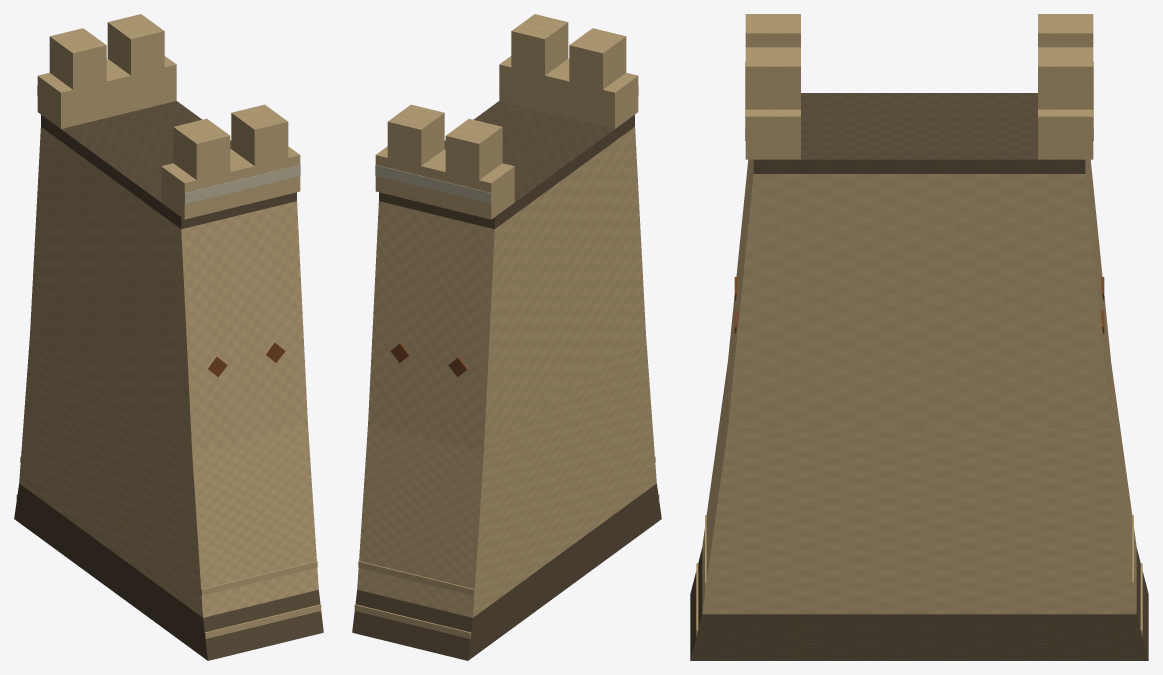
The model's file is Berber_Wall_Age4_gap_2m.fbx.
3 views of the same model, side by side, from view 1: azimuth 30°, elevation 25°; view 2: azimuth 150°, elevation 25°; view 3: azimuth 270°, elevation 25° (orthographic). The views are drawn at different scales.
Parts seen in each view (by area): view 1: gap_2m_rammed_curtain_upper, gap_2m_rammed_curtain_lower, gap_2m_battered_stone_foot, gap_2m_walk_deck, gap_2m_parapet.001, gap_2m_parapet, gap_2m_merlon.002, gap_2m_merlon, gap_2m_merlon.001, gap_2m_merlon.003, gap_2m_owner_painted_band, gap_2m_lime_bond_course (+3 smaller); view 2: gap_2m_rammed_curtain_upper, gap_2m_rammed_curtain_lower, gap_2m_battered_stone_foot, gap_2m_walk_deck, gap_2m_parapet, gap_2m_parapet.001, gap_2m_merlon, gap_2m_merlon.001, gap_2m_merlon.003, gap_2m_merlon.002, gap_2m_owner_painted_band.001, gap_2m_lime_bond_course.001 (+1 smaller); view 3: gap_2m_rammed_curtain_upper, gap_2m_rammed_curtain_lower, gap_2m_battered_stone_foot, gap_2m_walk_deck, gap_2m_merlon.003, gap_2m_merlon.001, gap_2m_parapet, gap_2m_parapet.001, gap_2m_merlon.002, gap_2m_merlon.
Part boxes in pixels (x1=…): gap_2m_rammed_curtain_upper: x1=30, y1=127, x2=307, y2=452; gap_2m_rammed_curtain_lower: x1=19, y1=334, x2=318, y2=617; gap_2m_battered_stone_foot: x1=14, y1=483, x2=323, y2=660; gap_2m_walk_deck: x1=41, y1=101, x2=296, y2=229; gap_2m_parapet.001: x1=37, y1=56, x2=176, y2=128; gap_2m_parapet: x1=161, y1=146, x2=300, y2=219; gap_2m_merlon.002: x1=49, y1=28, x2=106, y2=89; gap_2m_merlon: x1=173, y1=119, x2=230, y2=180; gap_2m_merlon.001: x1=231, y1=105, x2=288, y2=165; gap_2m_merlon.003: x1=107, y1=14, x2=164, y2=75; gap_2m_owner_painted_band: x1=184, y1=164, x2=300, y2=203; gap_2m_lime_bond_course: x1=204, y1=604, x2=321, y2=638; gap_2m_rammed_curtain_upper: x1=368, y1=127, x2=645, y2=452; gap_2m_rammed_curtain_lower: x1=357, y1=334, x2=656, y2=617; gap_2m_battered_stone_foot: x1=352, y1=483, x2=661, y2=660; gap_2m_walk_deck: x1=379, y1=101, x2=634, y2=229; gap_2m_parapet: x1=499, y1=56, x2=638, y2=128; gap_2m_parapet.001: x1=375, y1=146, x2=514, y2=219; gap_2m_merlon: x1=569, y1=28, x2=626, y2=89; gap_2m_merlon.001: x1=511, y1=14, x2=568, y2=75; gap_2m_merlon.003: x1=387, y1=104, x2=444, y2=165; gap_2m_merlon.002: x1=445, y1=118, x2=502, y2=180; gap_2m_owner_painted_band.001: x1=375, y1=164, x2=491, y2=203; gap_2m_lime_bond_course.001: x1=354, y1=604, x2=471, y2=638; gap_2m_rammed_curtain_upper: x1=728, y1=159, x2=1110, y2=428; gap_2m_rammed_curtain_lower: x1=702, y1=362, x2=1136, y2=614; gap_2m_battered_stone_foot: x1=690, y1=548, x2=1148, y2=660; gap_2m_walk_deck: x1=753, y1=93, x2=1085, y2=173; gap_2m_merlon.003: x1=1038, y1=47, x2=1093, y2=109; gap_2m_merlon.001: x1=745, y1=47, x2=800, y2=109; gap_2m_parapet: x1=745, y1=109, x2=800, y2=159; gap_2m_parapet.001: x1=1038, y1=109, x2=1093, y2=159; gap_2m_merlon.002: x1=1038, y1=14, x2=1093, y2=47; gap_2m_merlon: x1=745, y1=14, x2=800, y2=47.
Size of the model in its own units: 200 by 820 by 580.
Materials: 4 (4 with a texture image).
